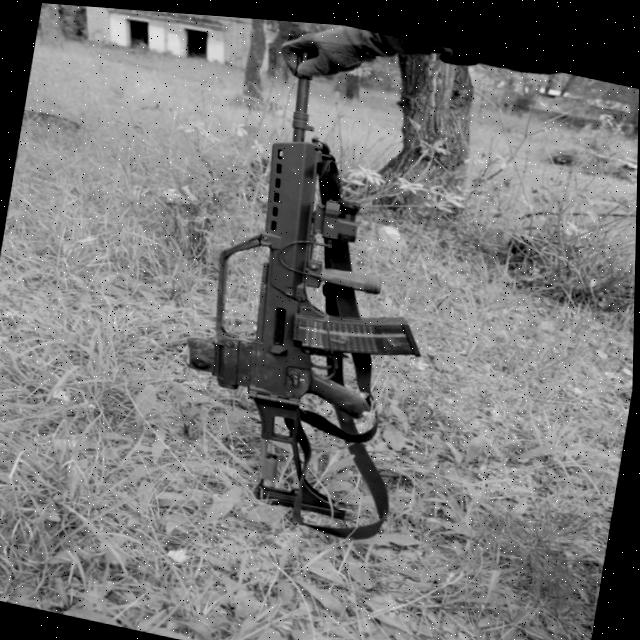firearm: (162, 23, 466, 530)
